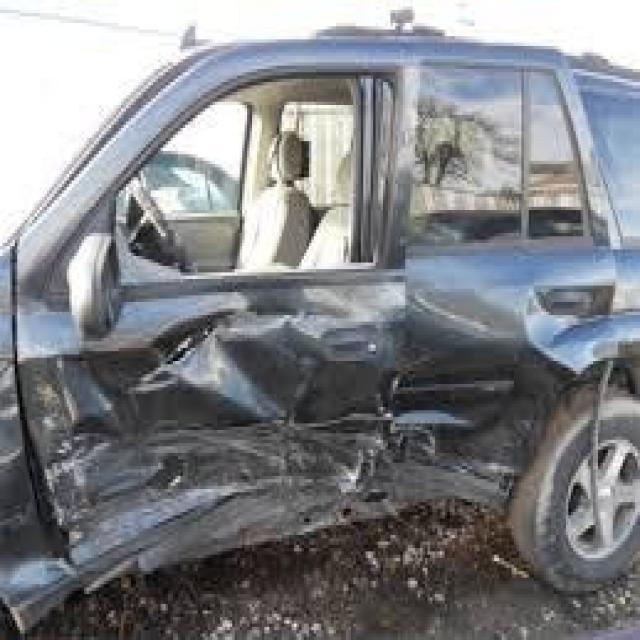damaged: (12, 286, 514, 542), (524, 279, 640, 374)
